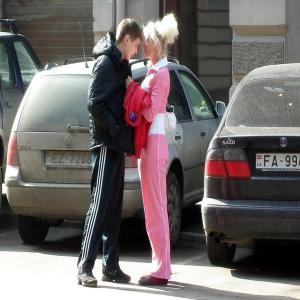Vehicle-registration-plate: (255, 153, 300, 173), (46, 151, 93, 170)
